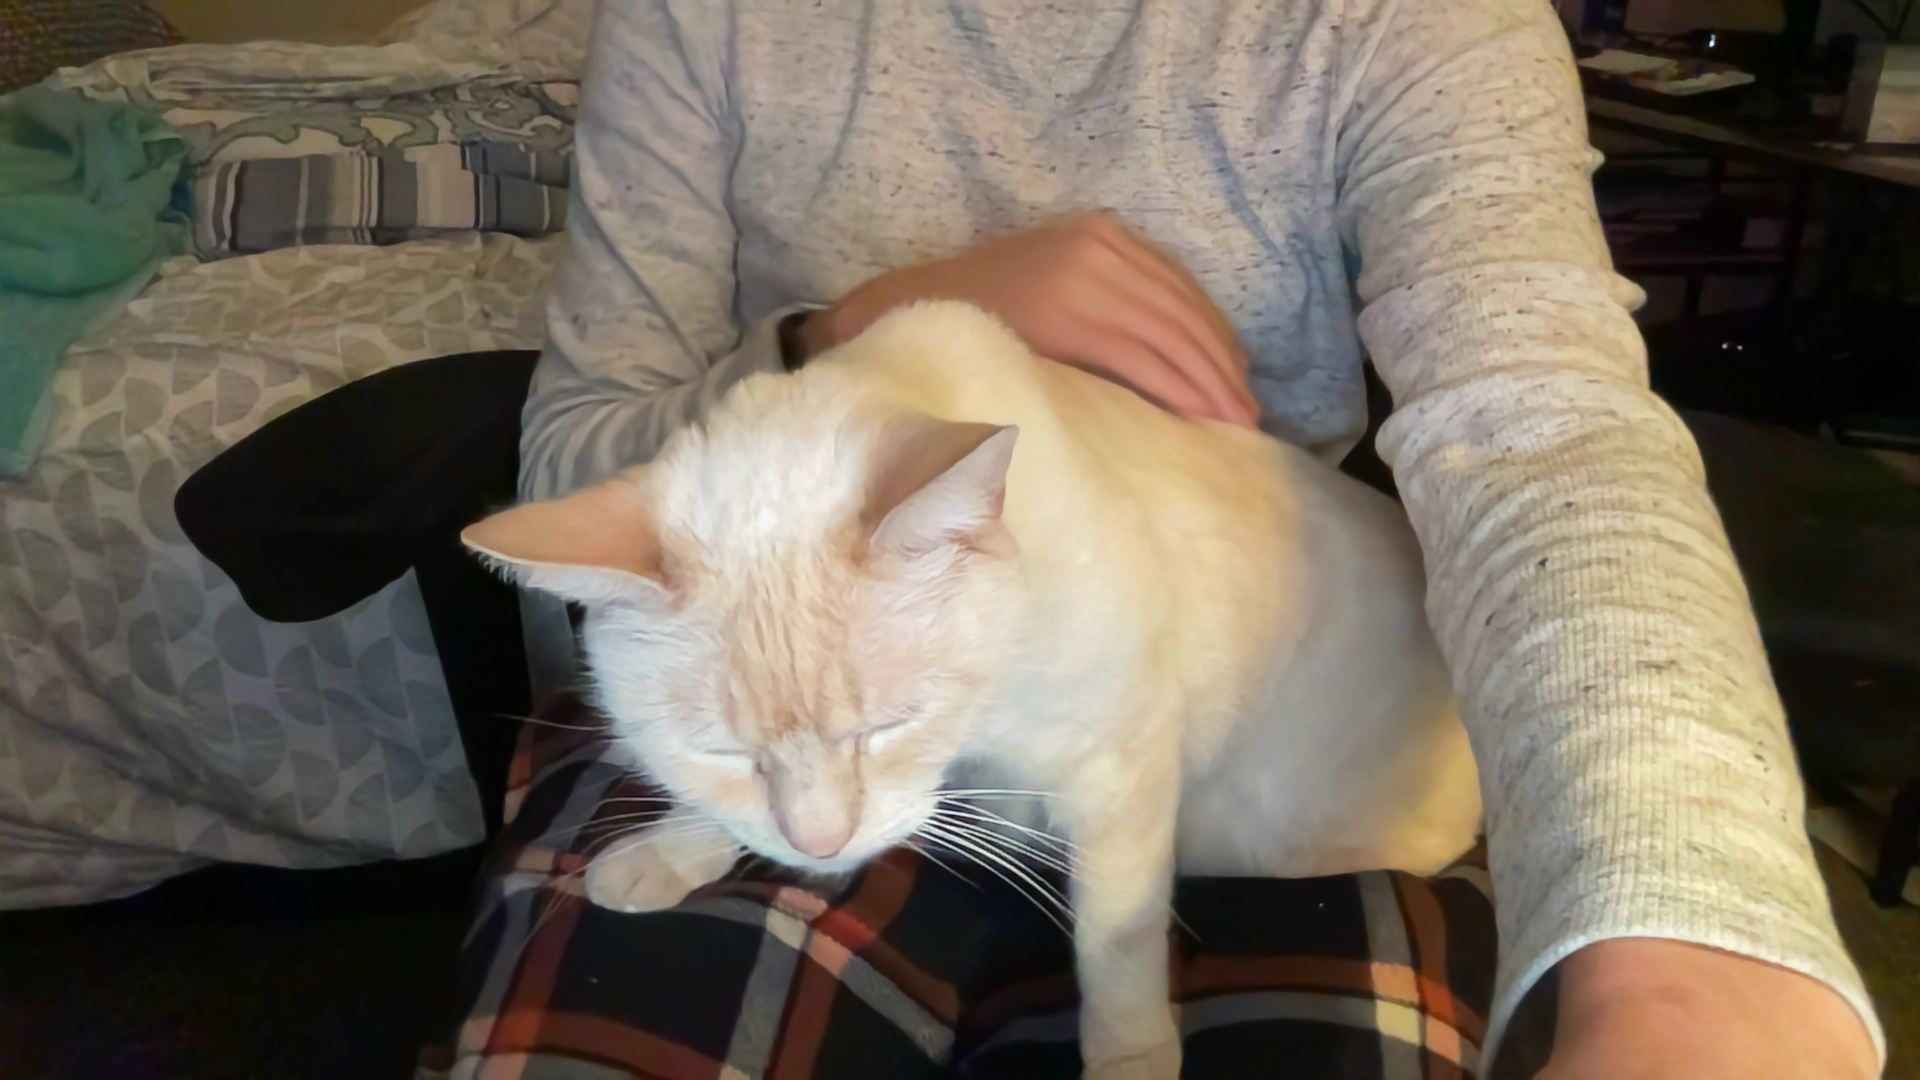cat: (454, 297, 1491, 1080)
